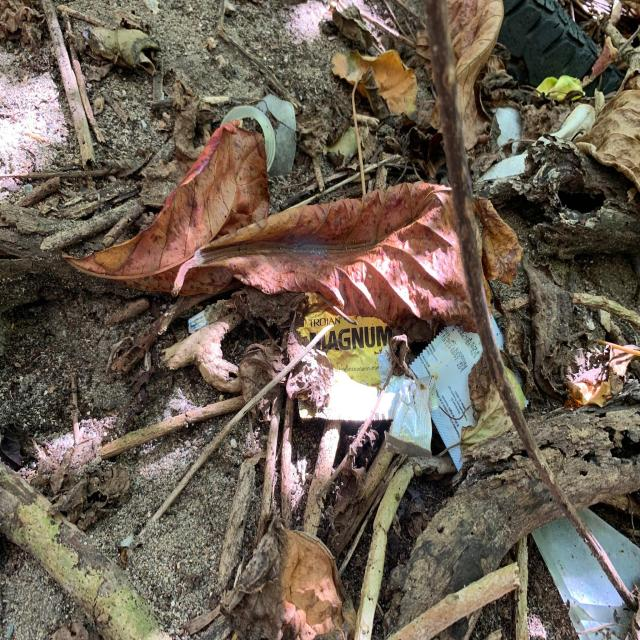litter: (301, 307, 399, 422)
